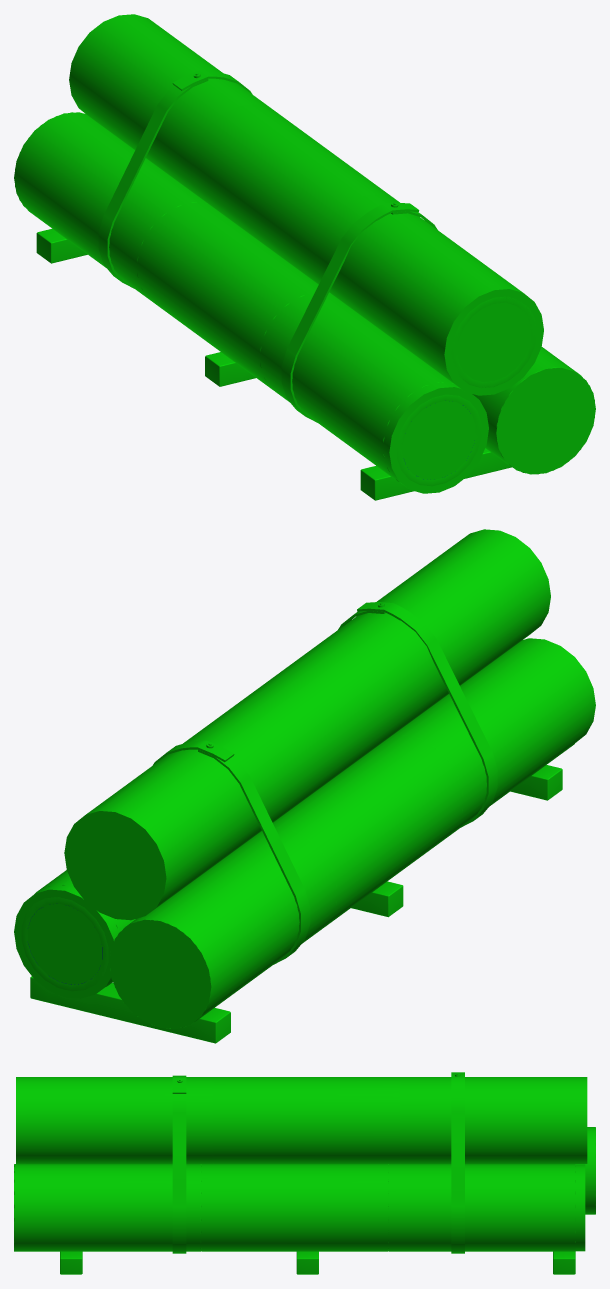
The model's file is ConcreteTubes.fbx.
The picture shows the model from 3 angles, top to bottom: view 1: azimuth 30°, elevation 25°; view 2: azimuth 150°, elevation 25°; view 3: azimuth 270°, elevation 25°; orthographic projection. The views are drawn at different scales.
Visible parts, largest first — view 1: Pipe1; view 2: Pipe1; view 3: Pipe1.
Boxes of the visible parts, x1,y1,x2,y2 form: Pipe1: (14, 14, 595, 500); Pipe1: (14, 529, 595, 1043); Pipe1: (14, 1072, 595, 1274).
Size of the model in its own units: 47.9 by 48.93 by 157.
